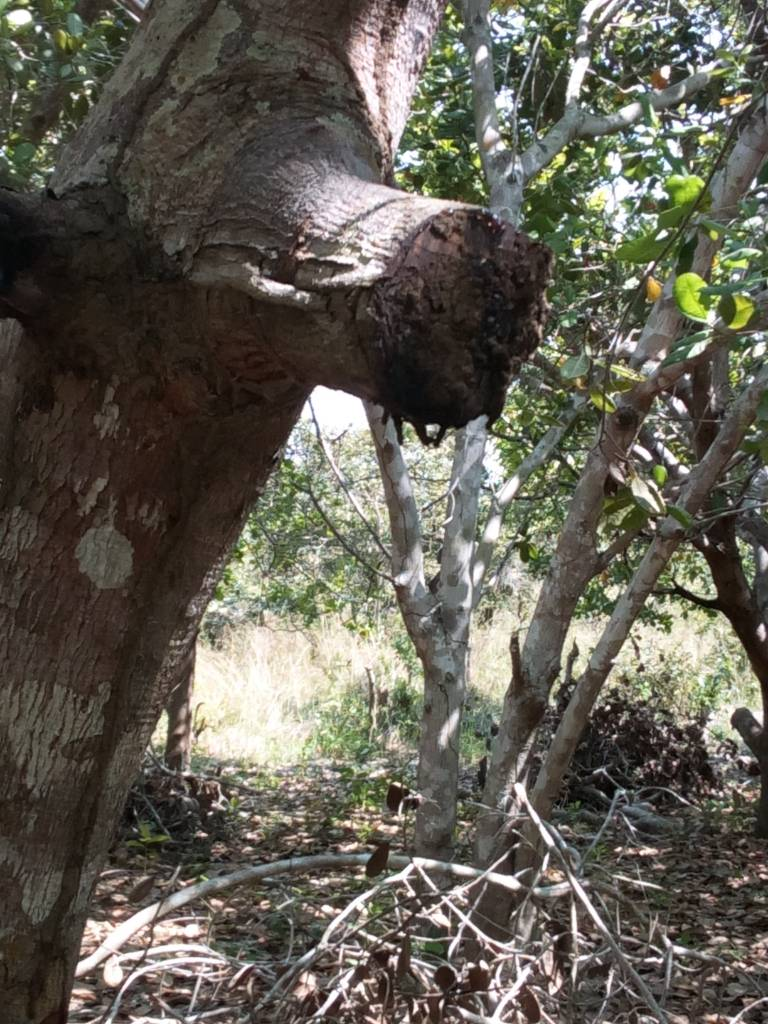Termites: (50, 199, 265, 538), (47, 597, 144, 947)
